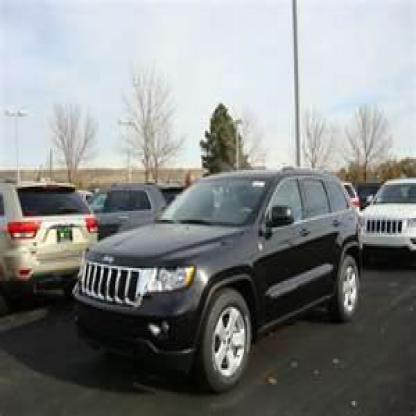Vehicle: (75, 168, 372, 390)
